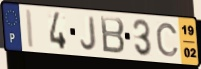3: (132, 18, 152, 58)
4: (48, 10, 69, 51)
B: (99, 15, 126, 56)
C: (154, 21, 180, 58)
I: (24, 8, 36, 50)
J: (79, 15, 98, 52)
